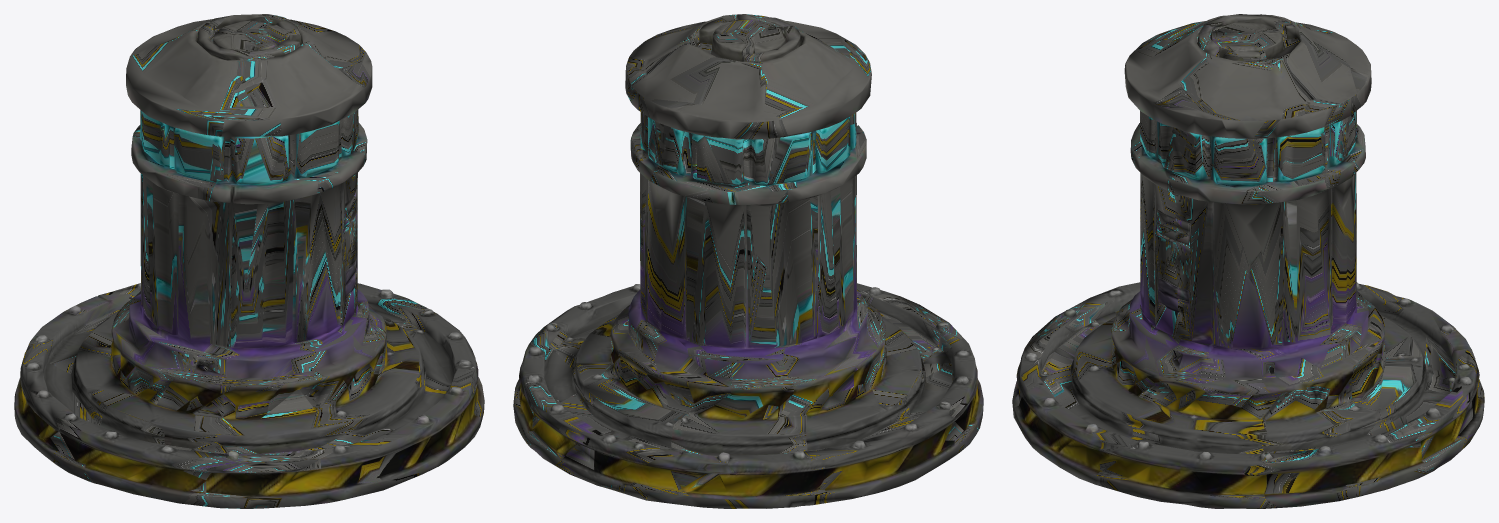
The model's file is disc_hub.glb.
3 renders of one model, left to right at view 1: azimuth 30°, elevation 25°; view 2: azimuth 150°, elevation 25°; view 3: azimuth 270°, elevation 25°, orthographic.
Visible parts, largest first — view 1: tripo_node_5748f096-af23-496c-8d49-252bf2862bbd; view 2: tripo_node_5748f096-af23-496c-8d49-252bf2862bbd; view 3: tripo_node_5748f096-af23-496c-8d49-252bf2862bbd.
Boxes of the visible parts, x1,y1,x2,y2 form: tripo_node_5748f096-af23-496c-8d49-252bf2862bbd: (14, 14, 484, 508); tripo_node_5748f096-af23-496c-8d49-252bf2862bbd: (513, 14, 983, 508); tripo_node_5748f096-af23-496c-8d49-252bf2862bbd: (1012, 14, 1484, 508).
Bounding box in the file's own units: 0.9982 × 0.8781 × 0.9989.
Materials: 1 (1 with a texture image).
